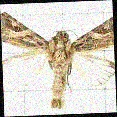Spodoptera litura: (2, 9, 115, 110)
